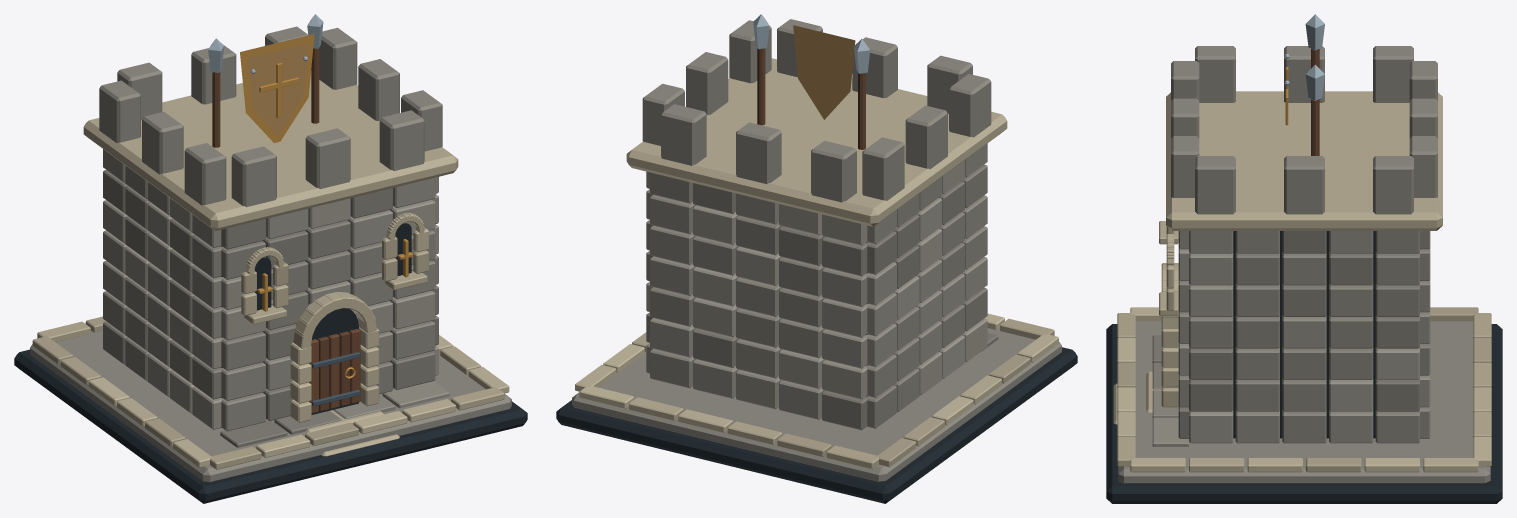
File: militia__base__L01.glb
3 renders of one model, left to right at view 1: azimuth 30°, elevation 25°; view 2: azimuth 150°, elevation 25°; view 3: azimuth 270°, elevation 25°, orthographic. The views are drawn at different scales.
Visible parts, largest first — view 1: structure, weapon; view 2: structure, weapon; view 3: structure, weapon.
Boxes of the visible parts, left/top/right/bottom form: structure: left=14, top=26, right=527, bottom=503; weapon: left=208, top=14, right=323, bottom=147; structure: left=556, top=19, right=1077, bottom=503; weapon: left=753, top=14, right=870, bottom=149; structure: left=1106, top=46, right=1502, bottom=503; weapon: left=1284, top=14, right=1324, bottom=155.
Bounding box in the file's own units: 0.803 × 0.858 × 0.803.
